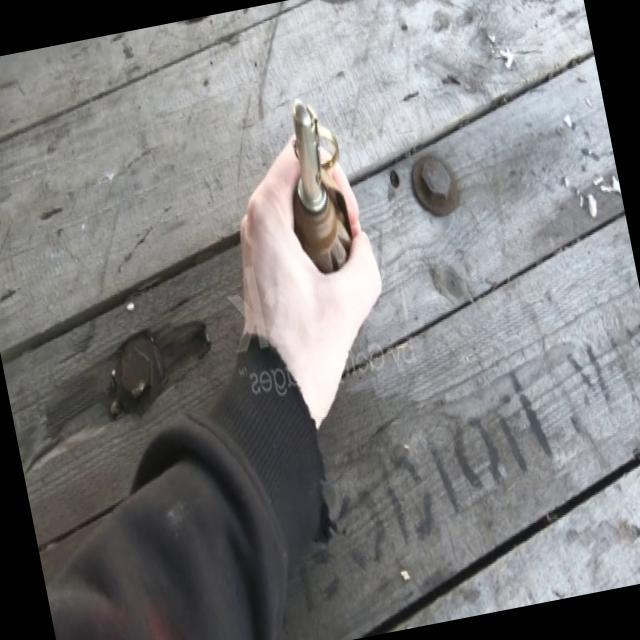grenade: (272, 96, 356, 280)
